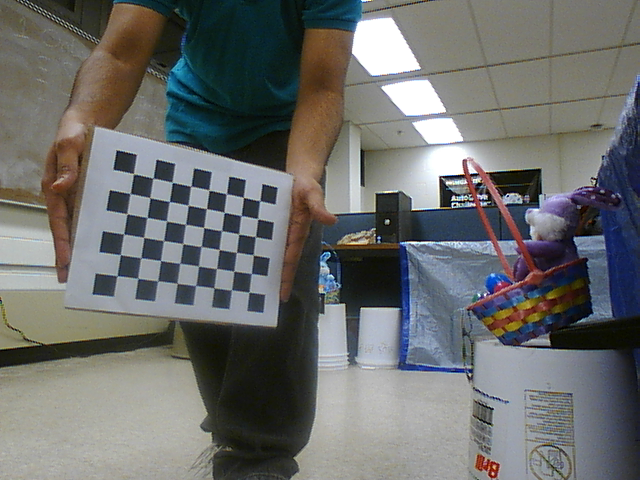bunny: (451, 149, 615, 341)
